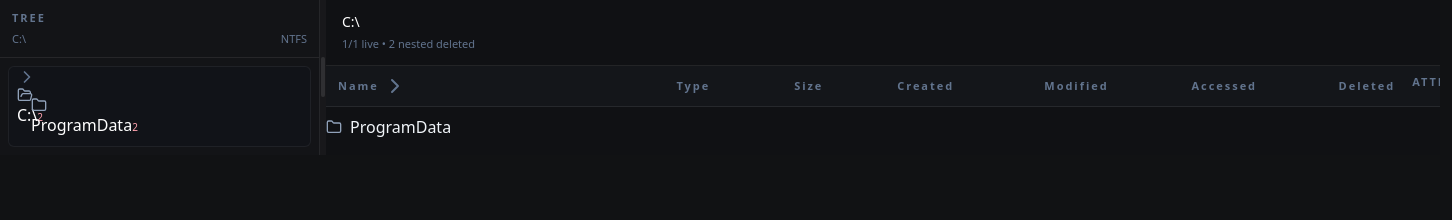
Test: SourceBrowser rendering stability › does not show an empty tree expander for folders with only direct deleted files
Expected: the 1st text "2" is shown, x1=37 y1=110 x2=43 y2=124
Click the button with test id "tree-open" showing "ProgramData2" at x=84, y=117, box x1=31 y1=97 x2=138 y2=137
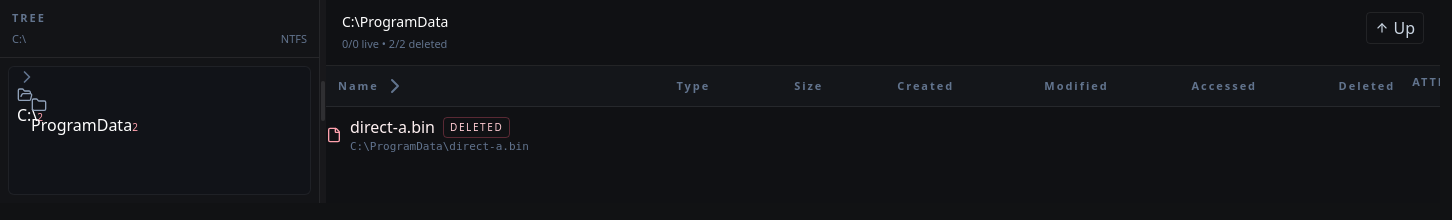
Expected: the text "direct-a.bin" is shown, x1=350 y1=114 x2=435 y2=138
Expected: the text with test id "browser-status" shows "2/2 deleted", x1=342 y1=36 x2=447 y2=51
